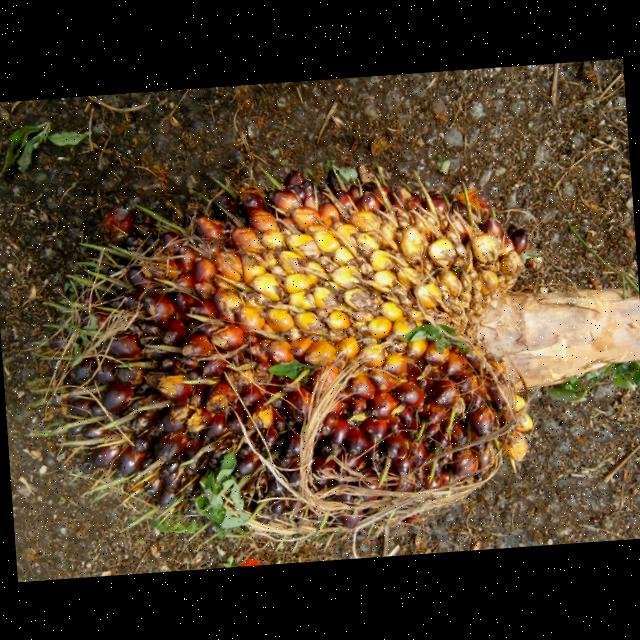Unripe: (52, 166, 541, 538)
